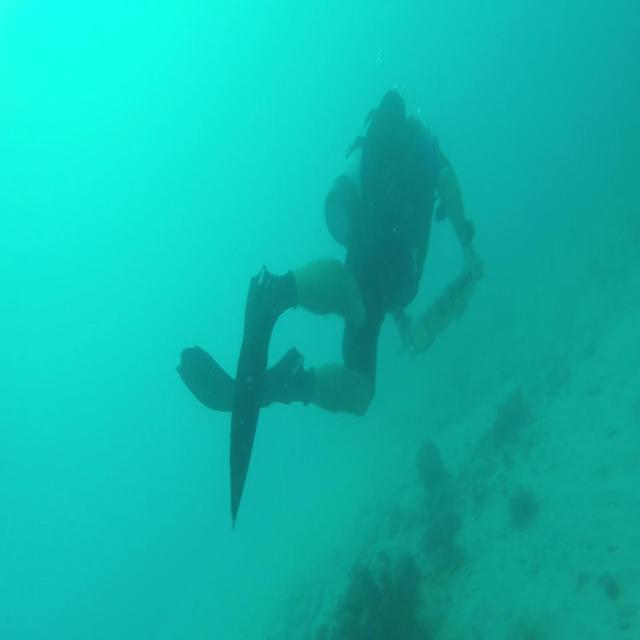human: (176, 87, 484, 528)
